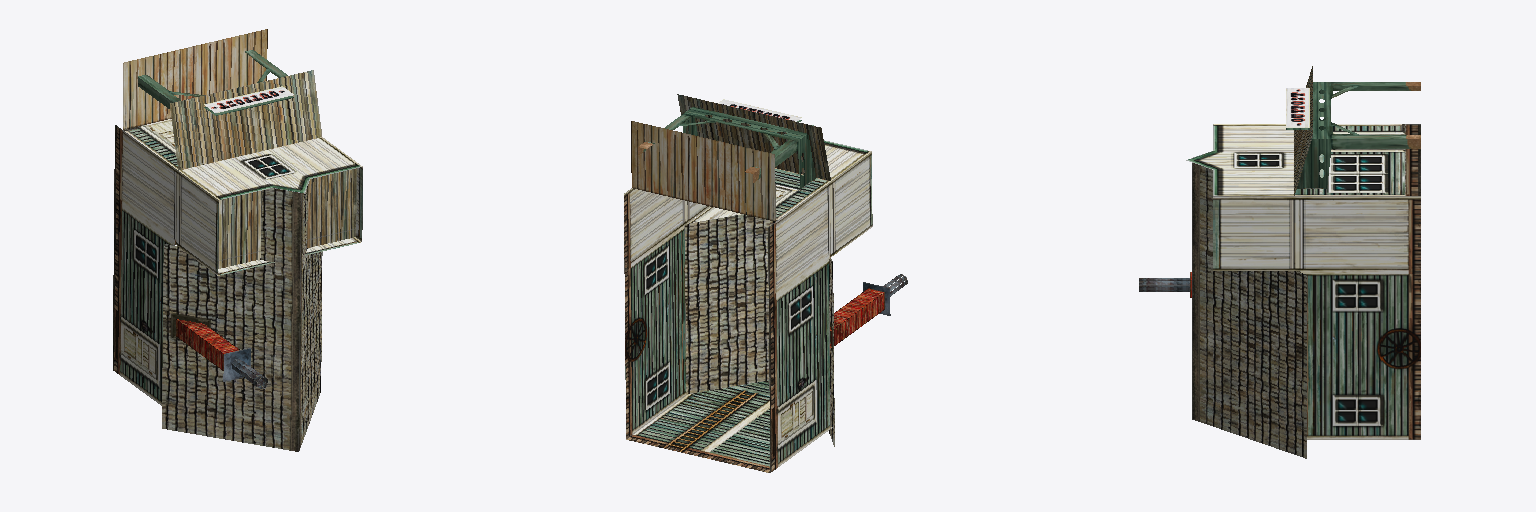
The picture shows the model from 3 angles: view 1: azimuth 30°, elevation 25°; view 2: azimuth 150°, elevation 25°; view 3: azimuth 270°, elevation 25°; orthographic projection.
Size of the model in its own units: 88.46 by 173 by 134.
Materials: 15 (15 with a texture image).